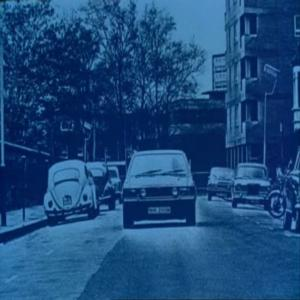Vehicle-registration-plate: (148, 207, 172, 215), (64, 196, 73, 206)
